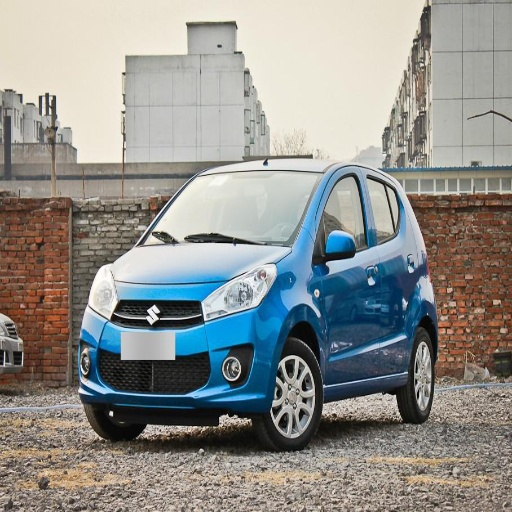front_bumper: (73, 280, 285, 422)
front_glass: (140, 172, 319, 246)
front_left_door: (314, 168, 382, 384)
